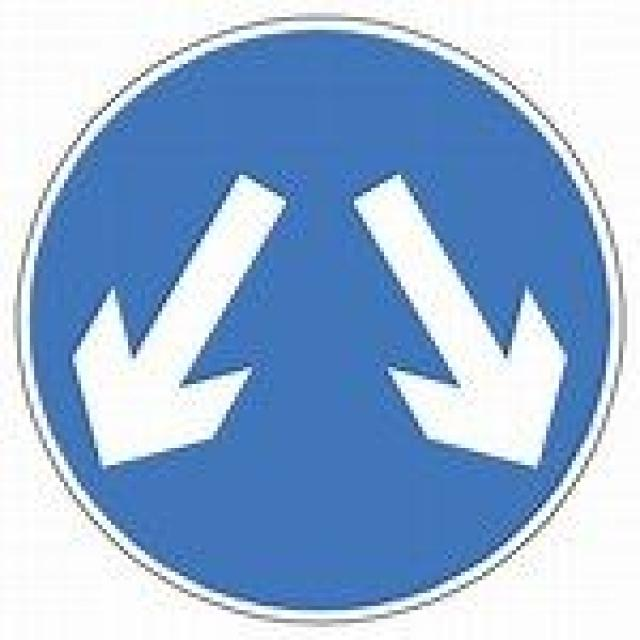no_overtaking: (21, 25, 606, 606)
